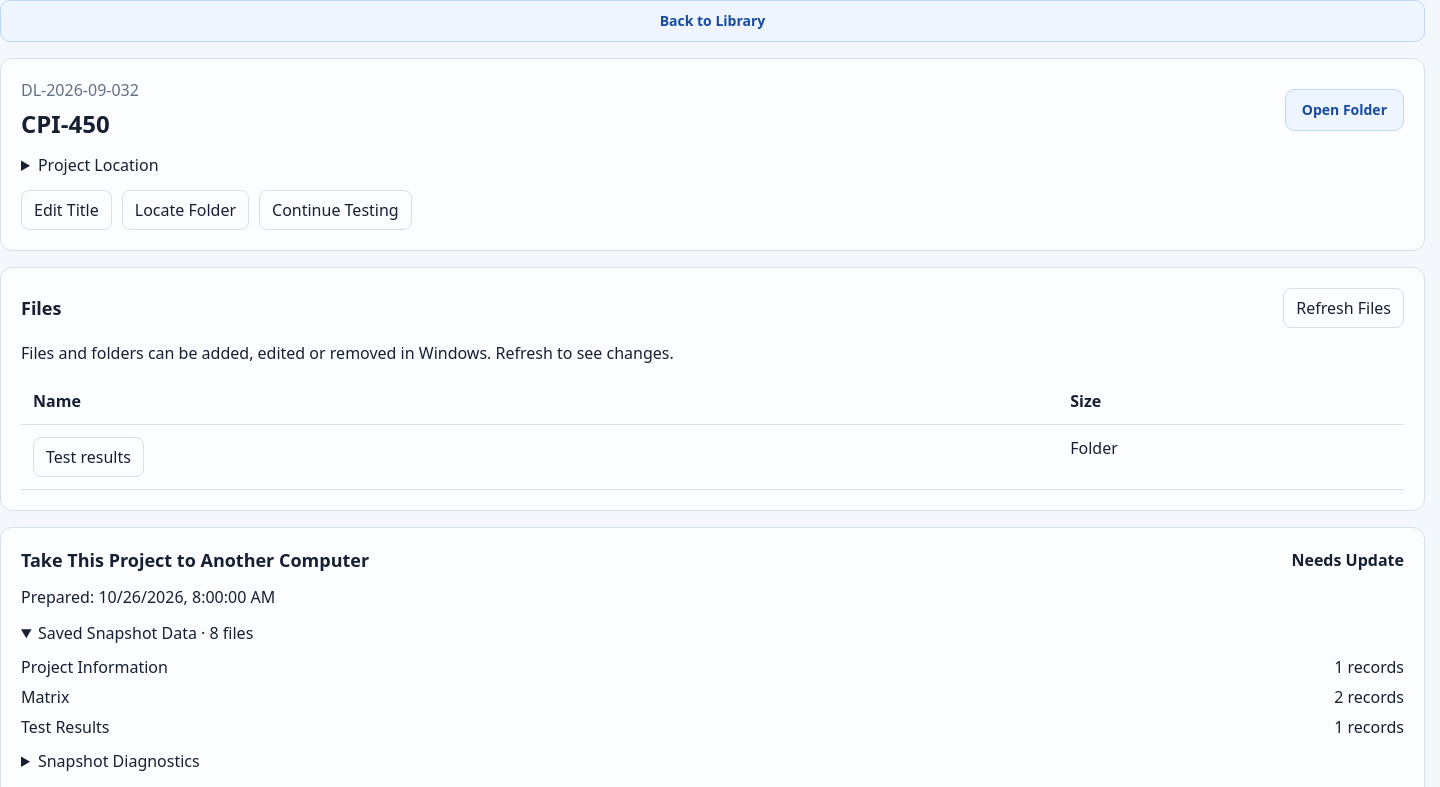
Test: Library project management › keeps the LTR read-only and confirms a reviewed title change without hiding changed-file warnings
The image size is (1440, 787).
Click the button "Edit Title" at (66, 210), box 21,190 -> 112,230
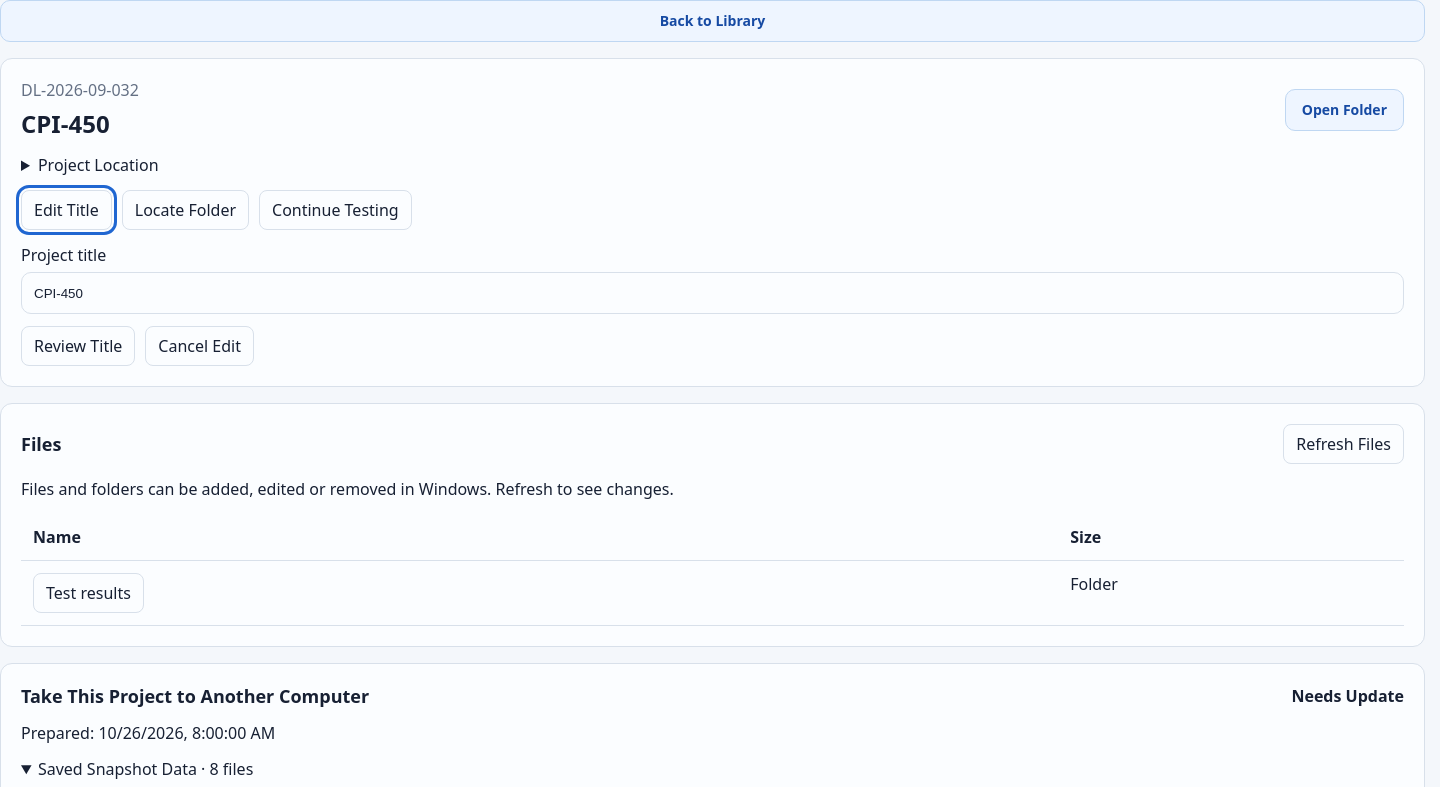
Replace the text in the field labelled "Project title" with "Revised" at (712, 293), box 21,272 -> 1404,314
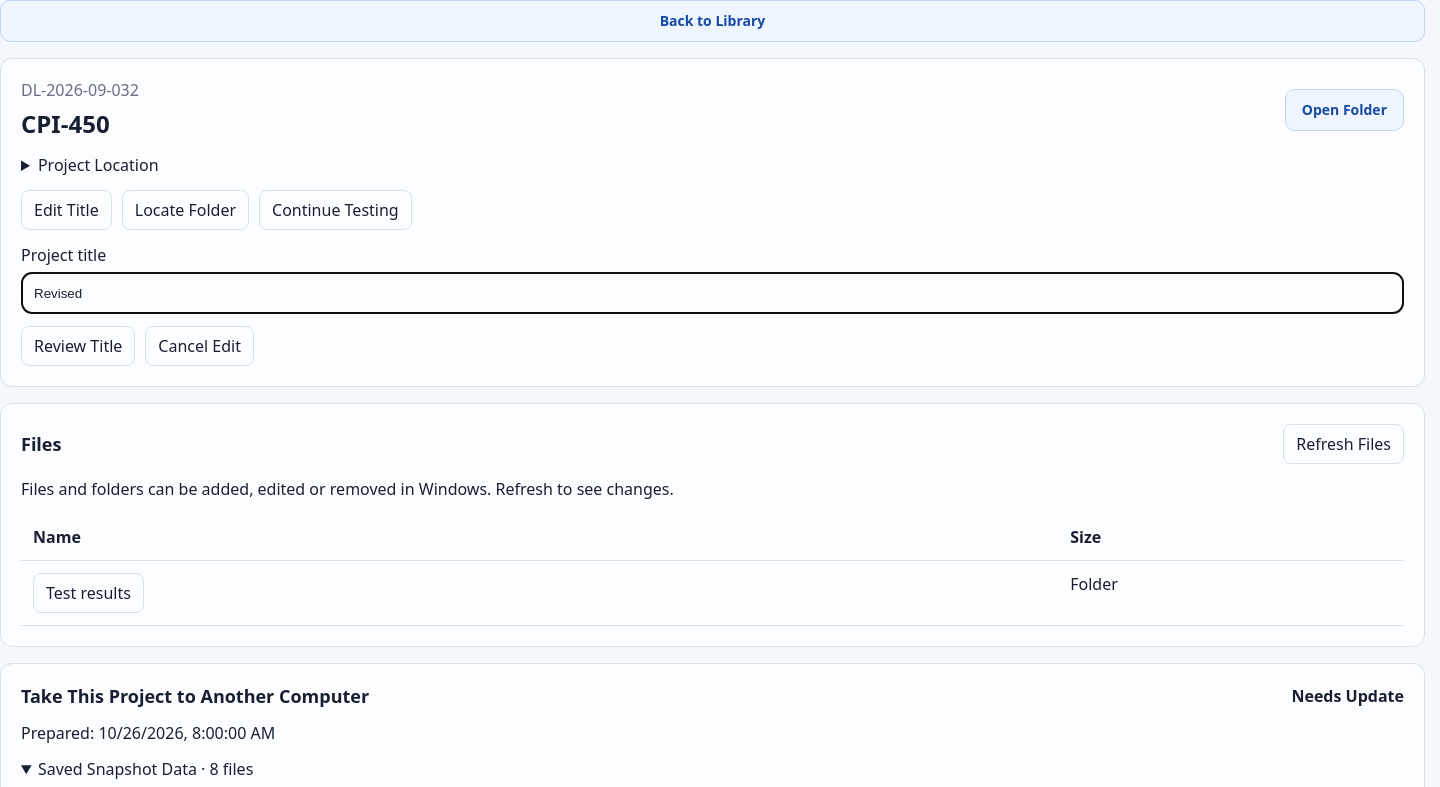
Click the button "Review Title" at (78, 346), box 21,326 -> 135,366
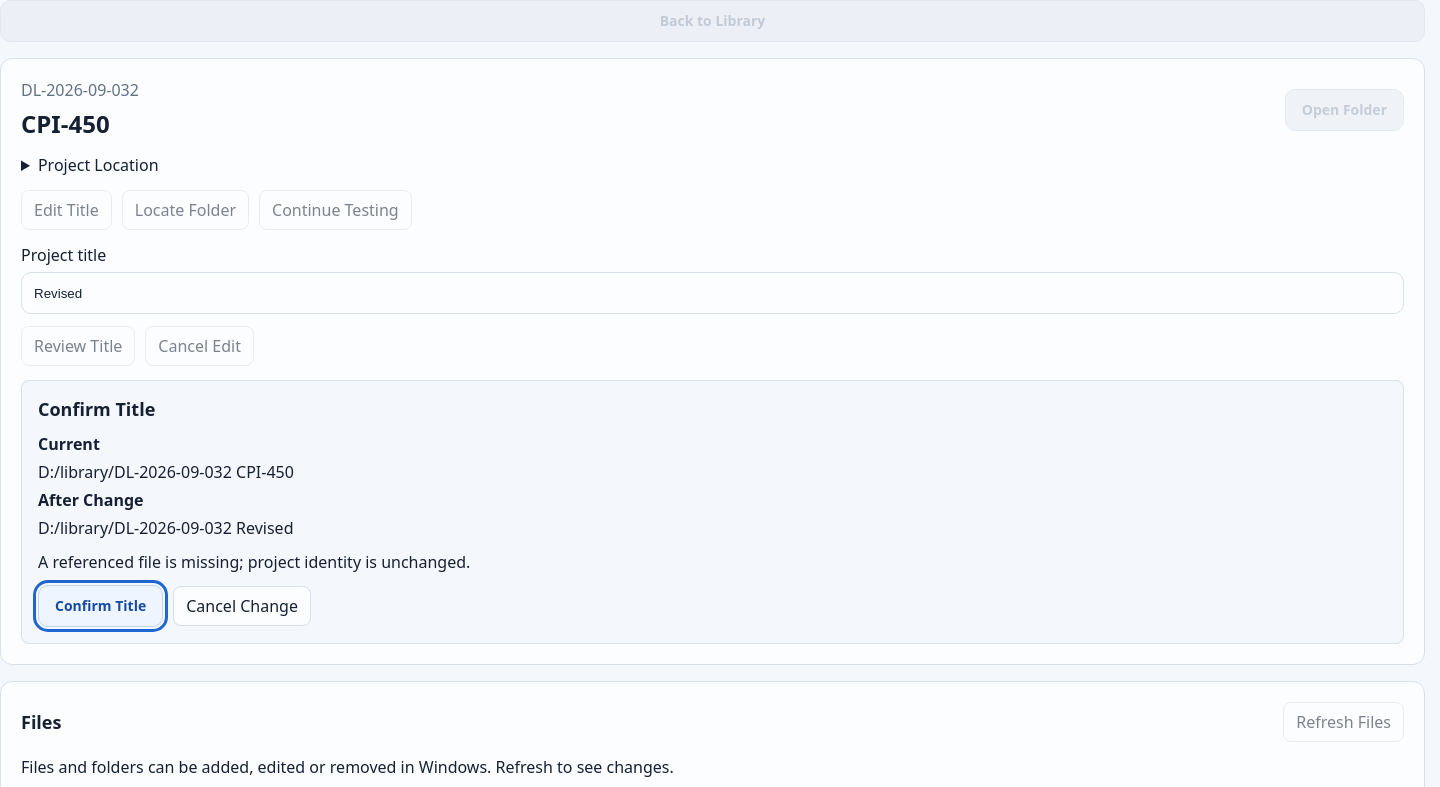
Expected: the field labelled "LTR" is not shown
Expected: the text "A referenced file is missing; project identity is unchanged." is shown, 38,551 -> 470,573
Click the button "Confirm Title" at (101, 606), box 38,585 -> 163,627
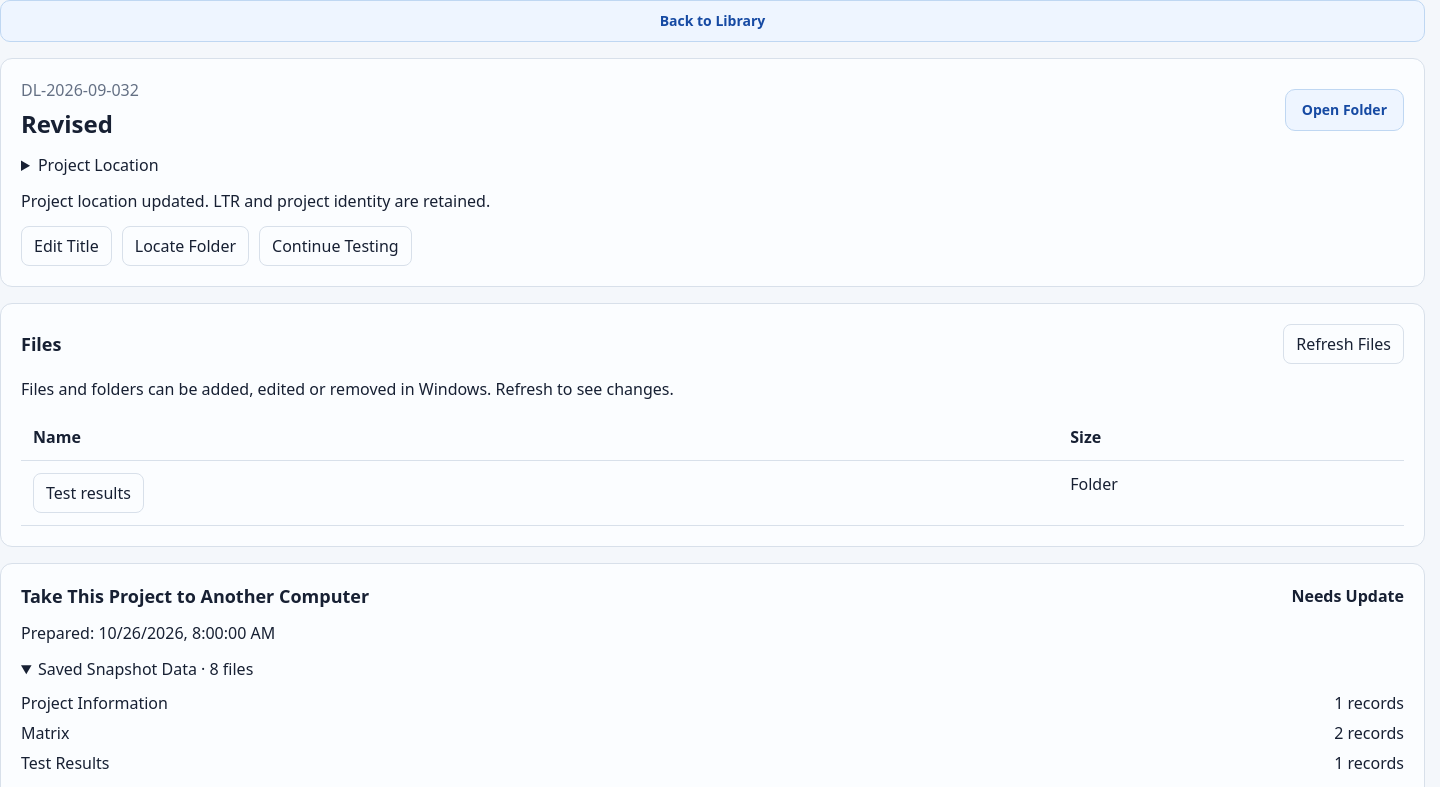
Expected: the text "DL-2026-09-032" is shown, 21,79 -> 139,101
Expected: the heading "Revised" is shown, 21,107 -> 113,140
